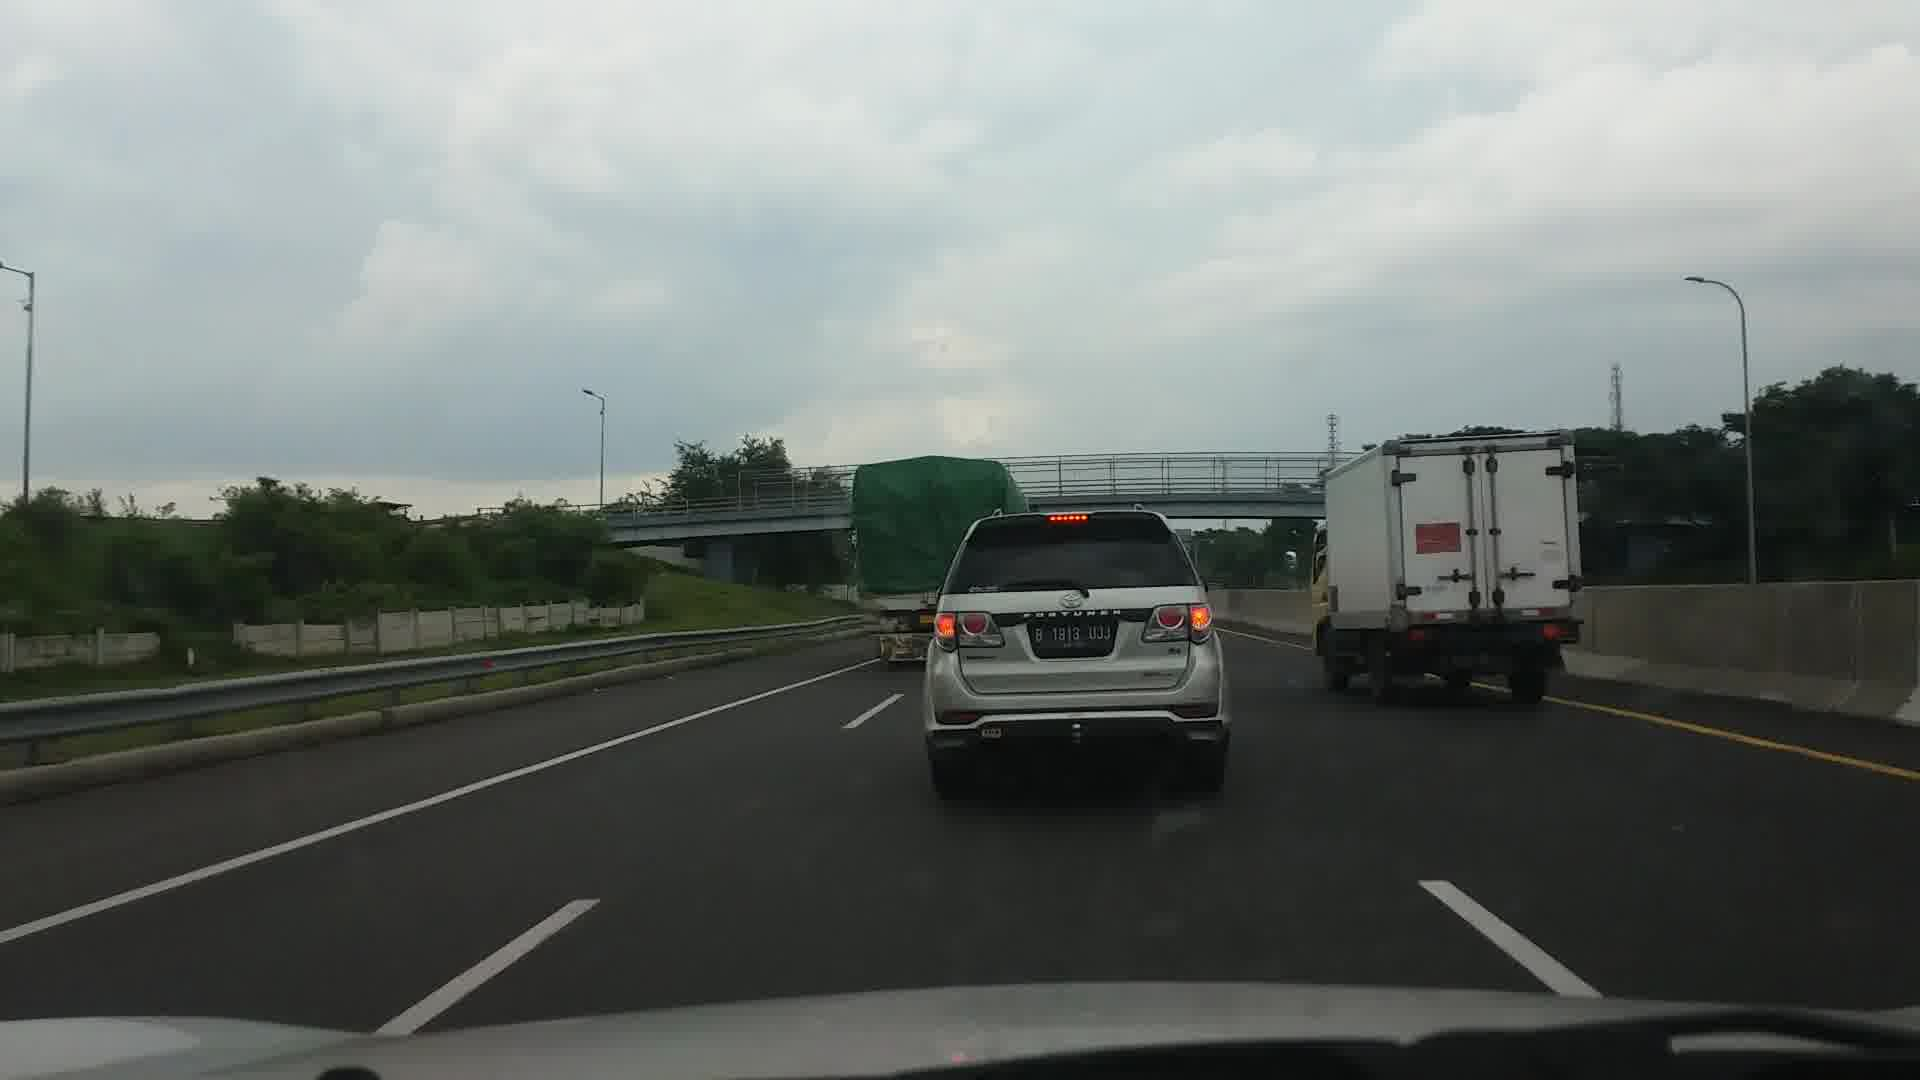plate_positive: (1031, 621, 1113, 649)
